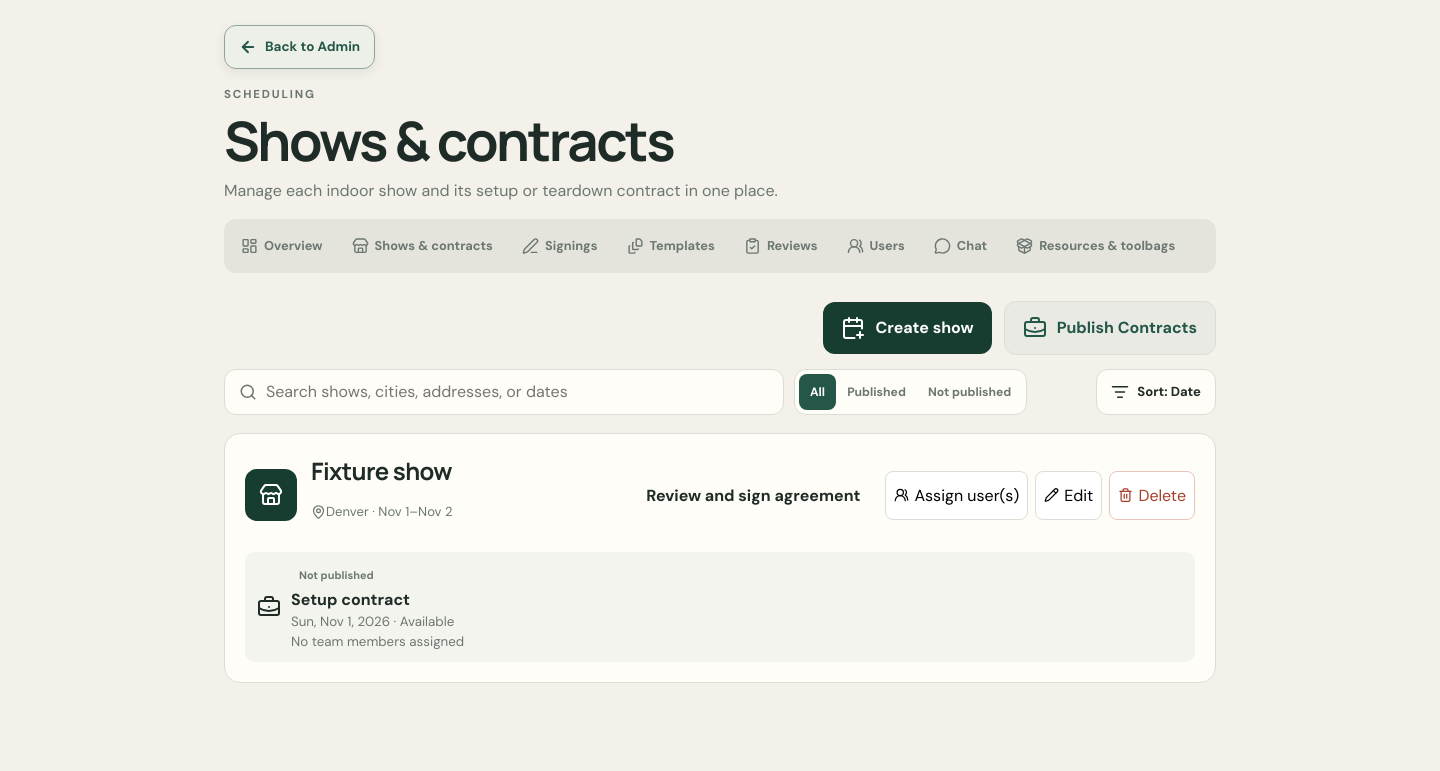
editing has no signature input and explains the separate review step
Click the button "Edit" at point(1069, 495), box 1035,471 -> 1102,520
(page scrolled)
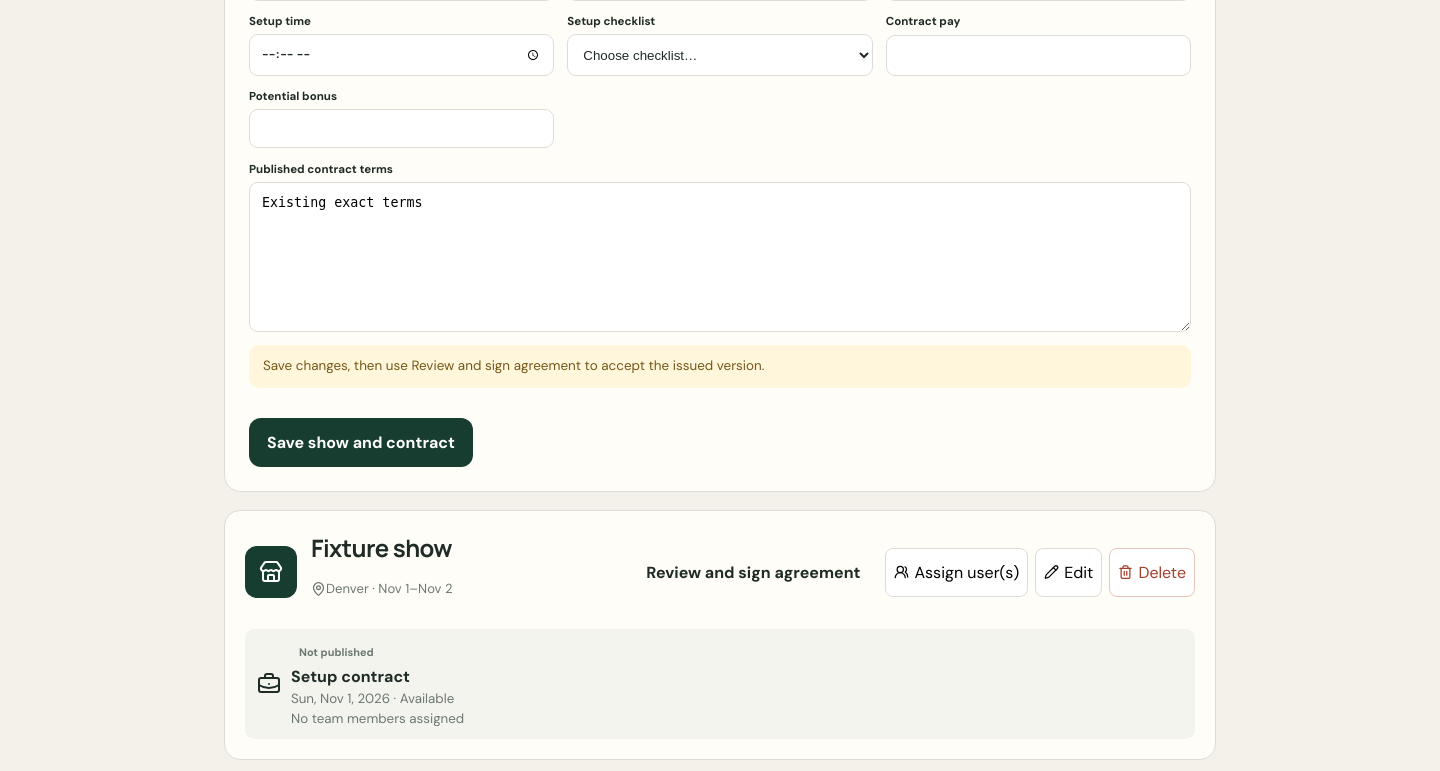
Now the text "Save changes, then use Review and sign agreement to accept the issued version." is shown, box 249,345 -> 1191,388
